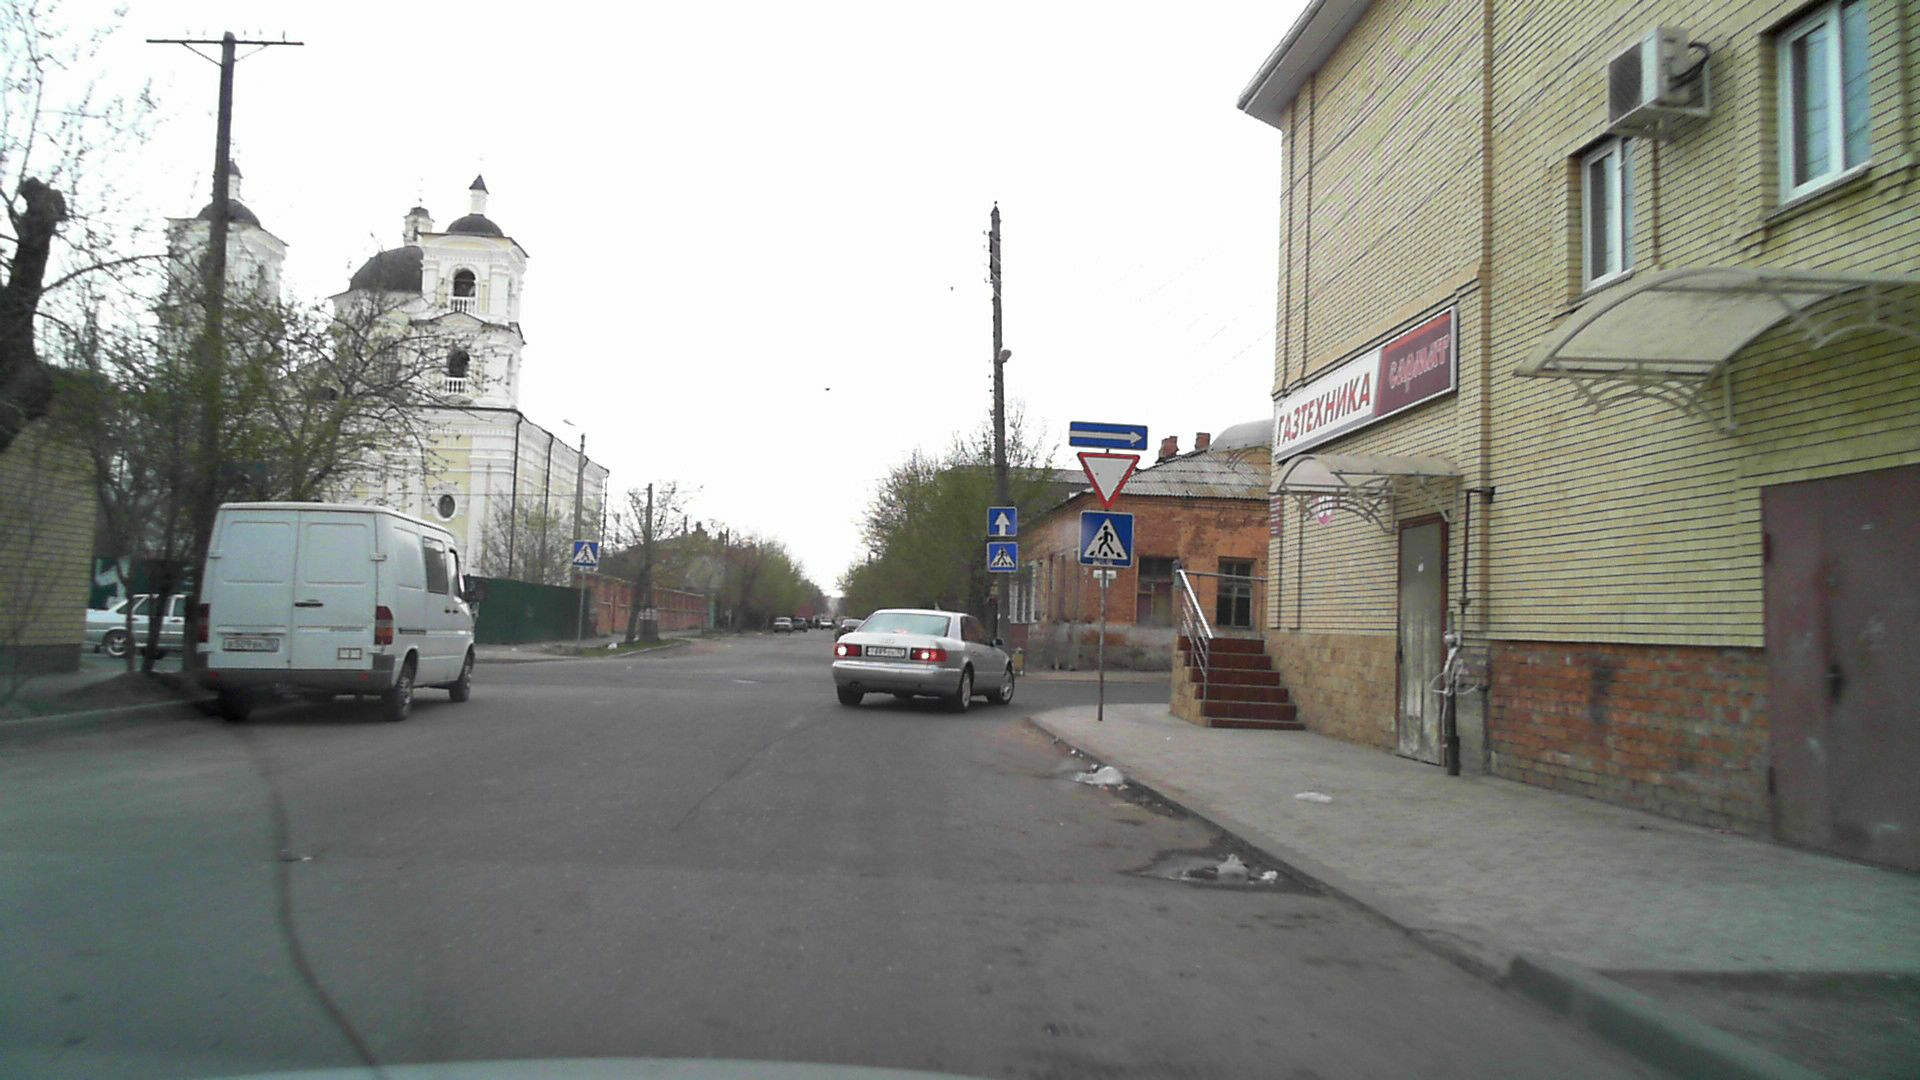One-Way Traffic: (1069, 421, 1149, 450)
Pedestrian Crossing: (1080, 512, 1131, 564)
